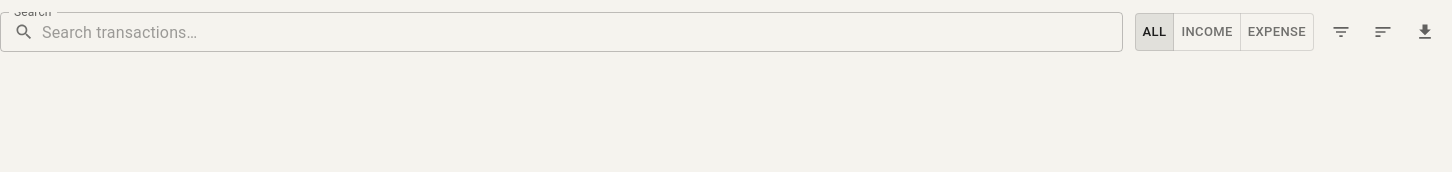
Test case: FilterBar › shows payment method chips with display labels when filter toggle is clicked
The width and height of the screenshot is (1452, 172).
Step 1. Click the button named "Filter by payment method" → (1341, 32), box [1326,17,1356,47]
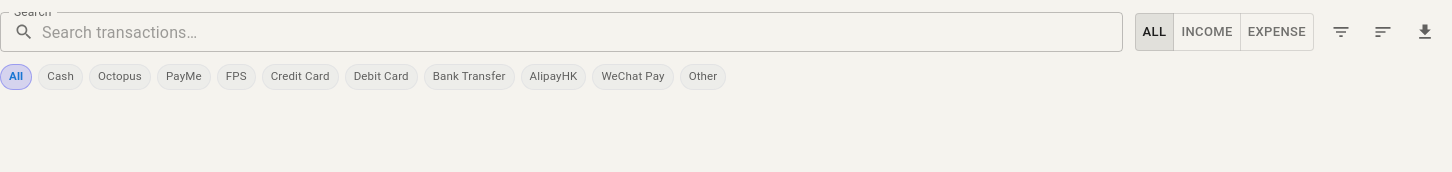
Now the text "Cash" is shown, box [47,69,74,83]
Now the text "Octopus" is shown, box [98,69,142,83]
Now the text "PayMe" is shown, box [166,69,202,83]
